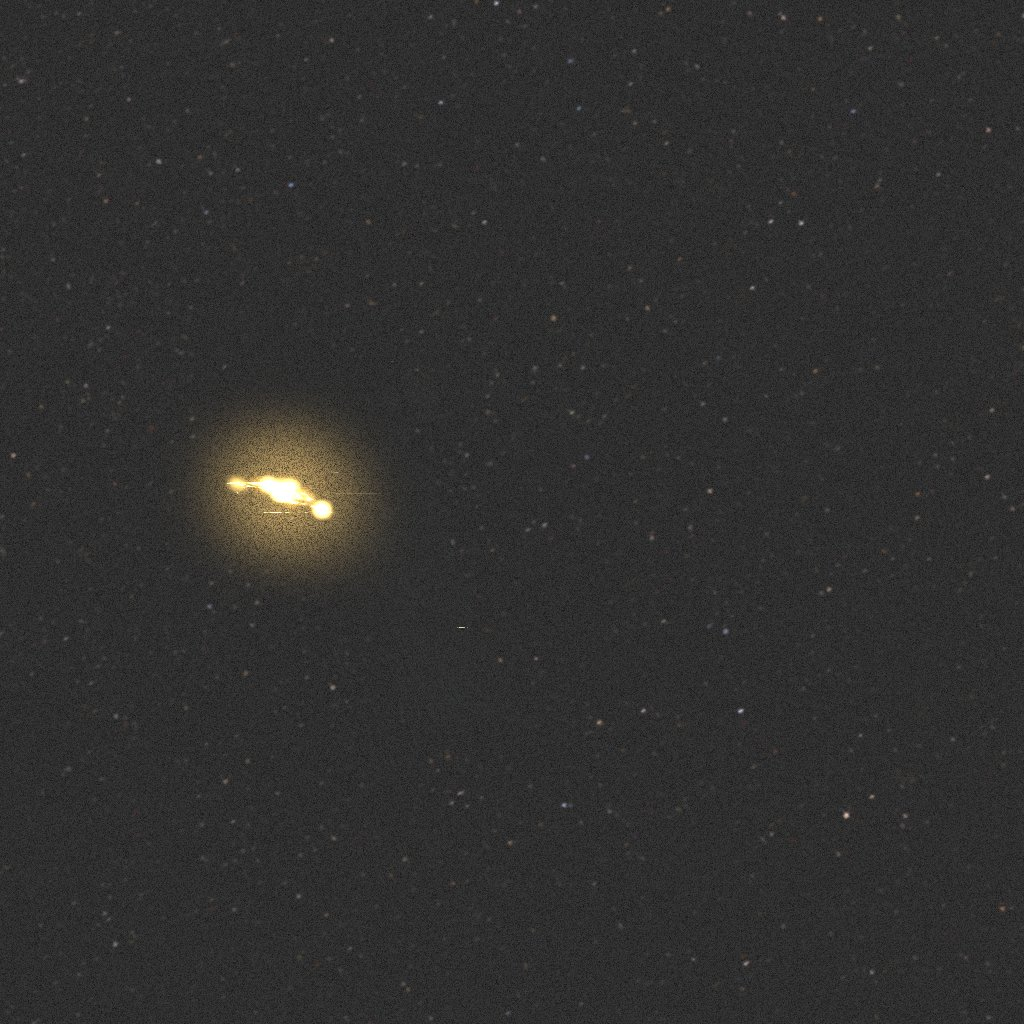earth_observation_sat_1: (234, 428, 471, 709)
